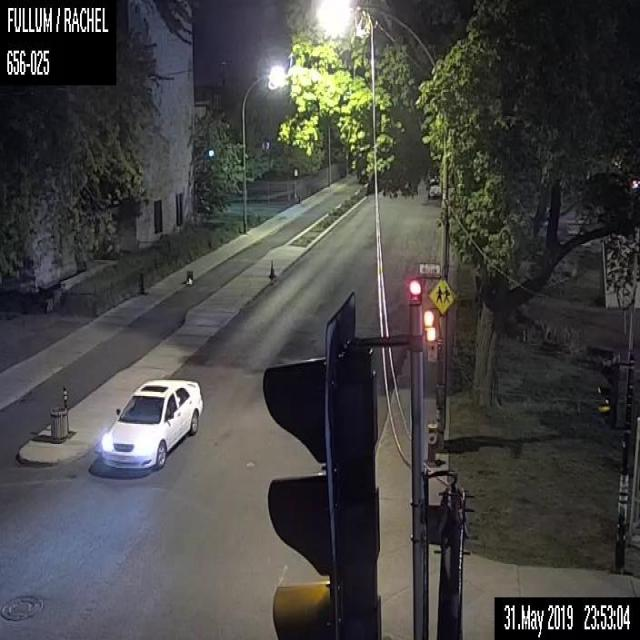construction: (268, 258, 275, 276)
vehicle: (101, 379, 202, 470), (427, 178, 440, 197)
